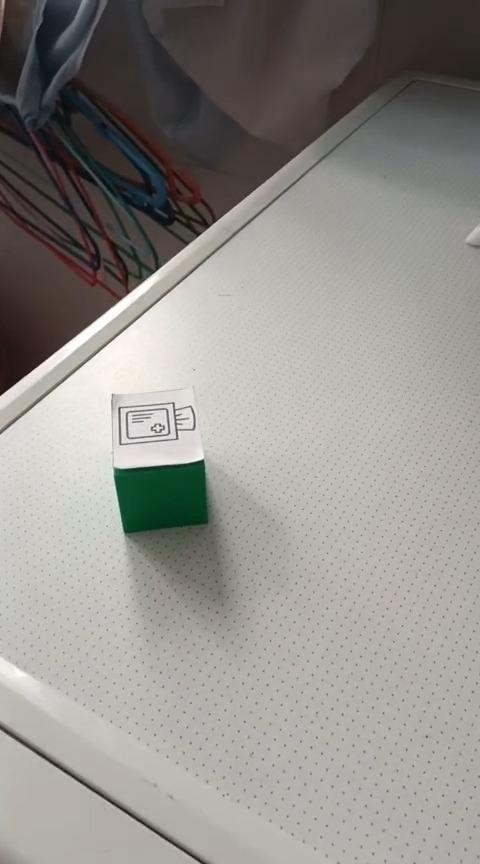Gauze: (109, 385, 209, 534)
